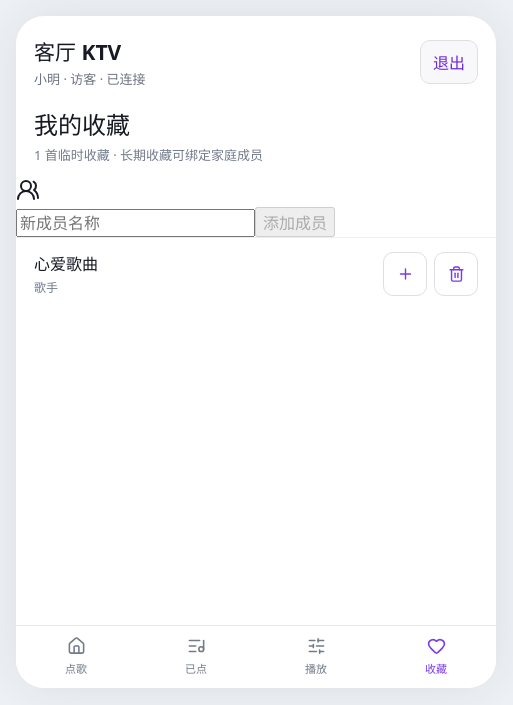
Test case: mobile application shell › loads the favorites page and removes a favorite
Expected: the text "心爱歌曲" is shown, [34,253,98,275]
Click the button named "取消收藏 心爱歌曲" at x=456, y=274, box [434,252,478,296]
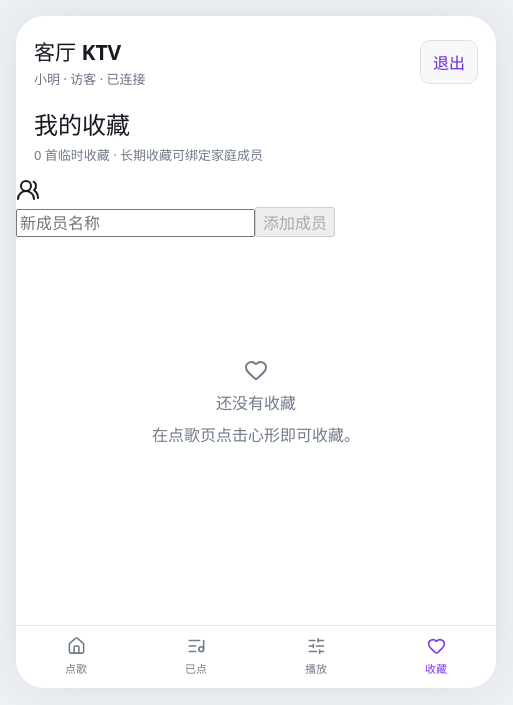
Expected: the text "心爱歌曲" is gone
